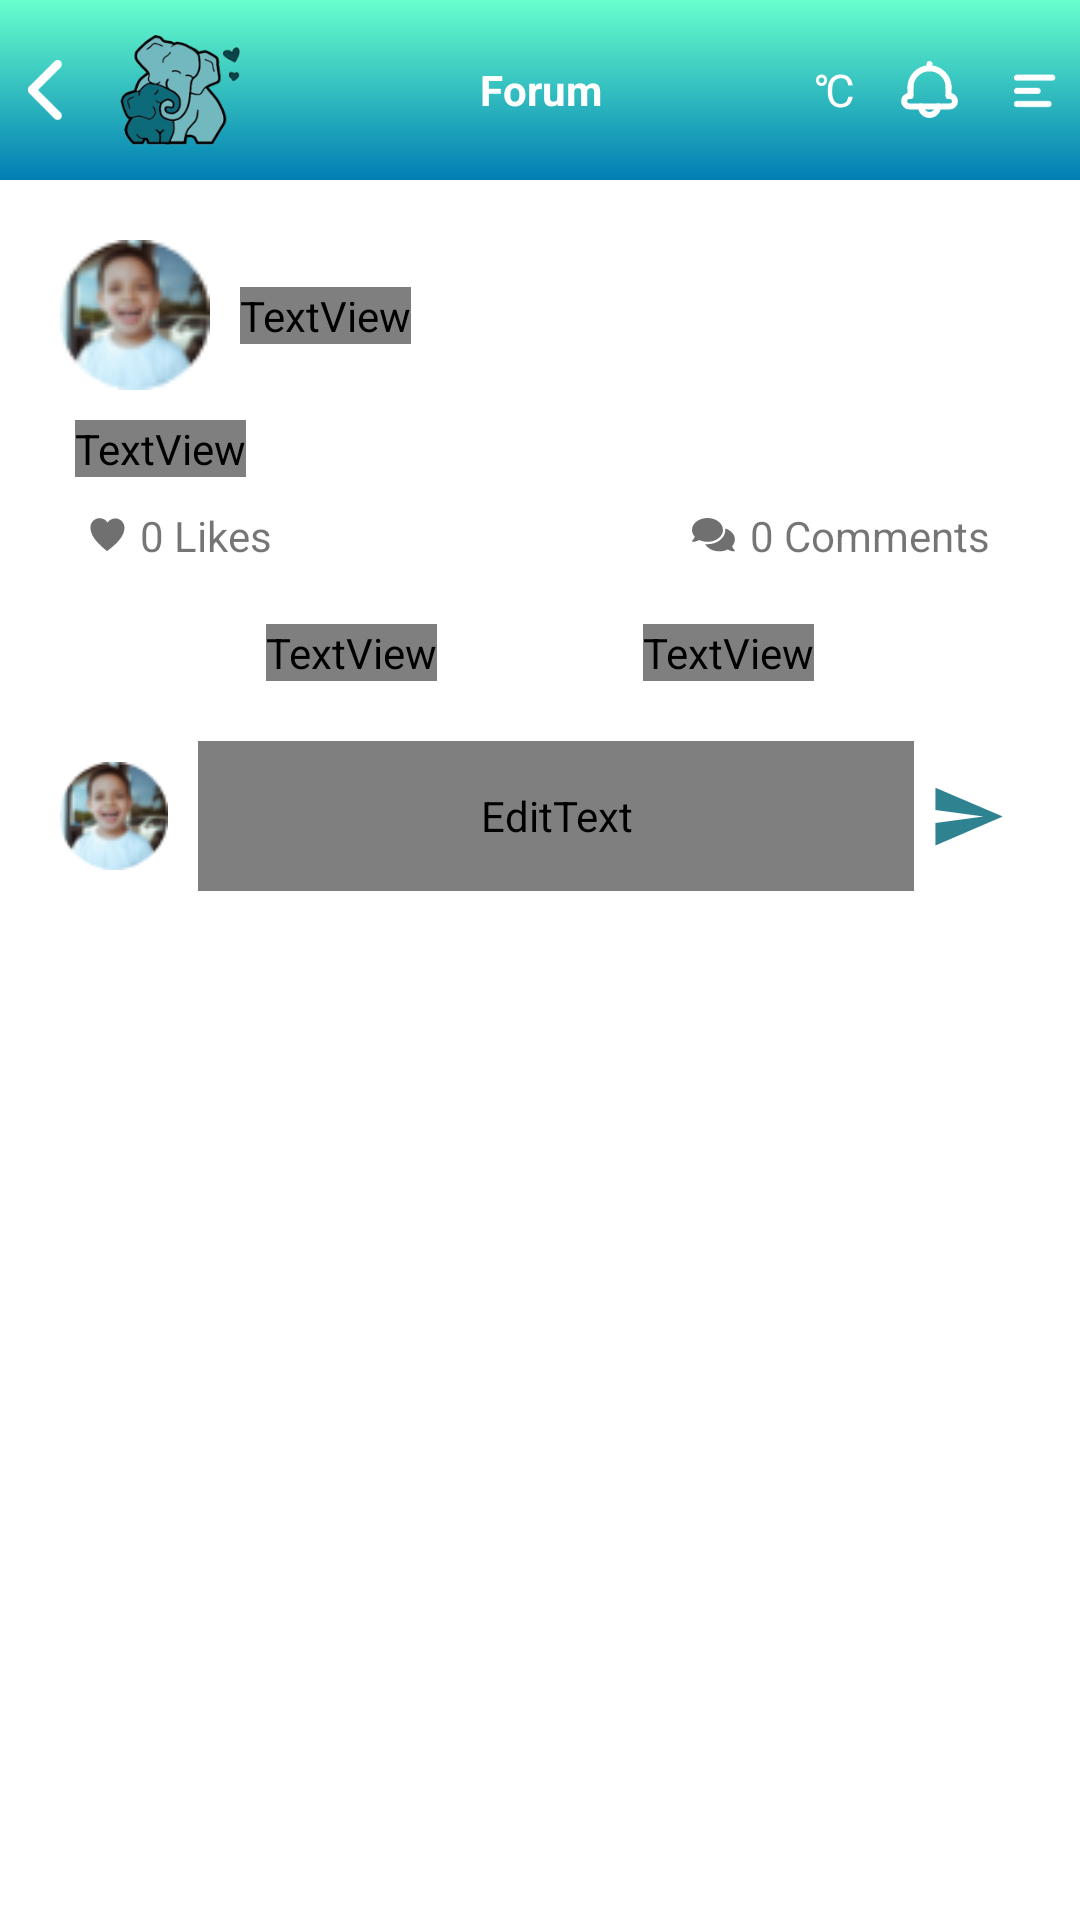

Where to tap for icons on this 1080x1920 app screen, as (x,y):
back: (45,90)
menu: (1035,90)
notifications: (930,90)
send: (969,817)
